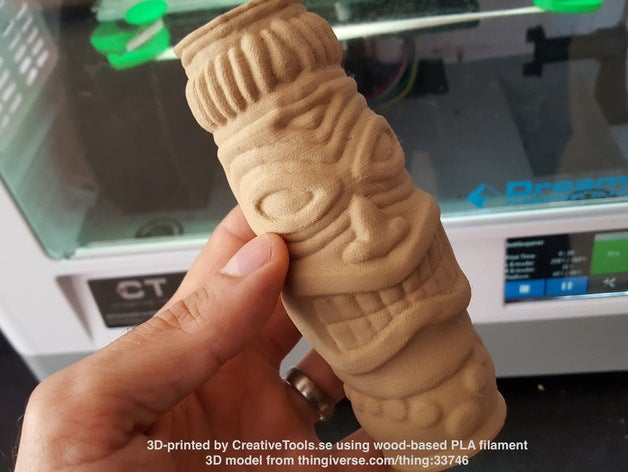Good: (155, 1, 542, 472)
